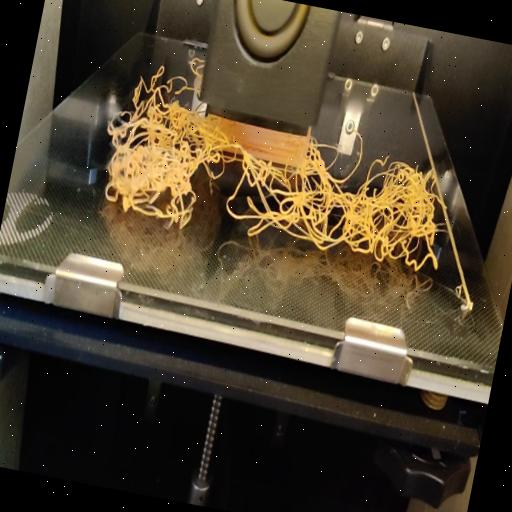spaghetti: (97, 98, 457, 282), (130, 42, 208, 114), (345, 128, 368, 148)
